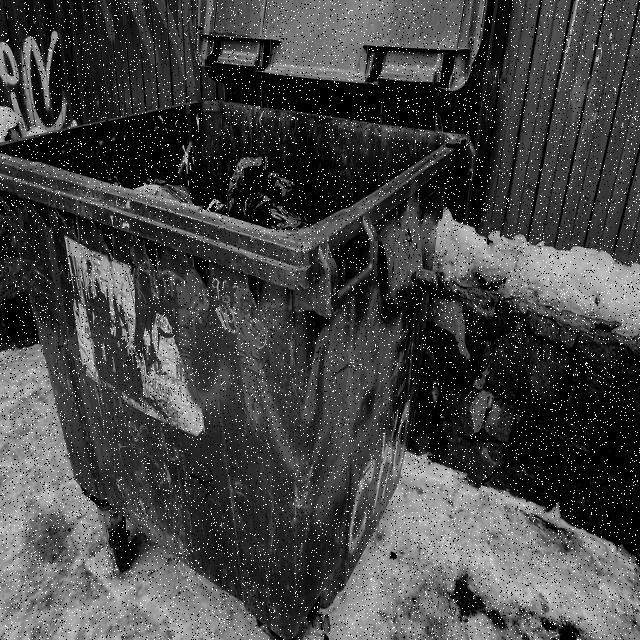Trashcan: (0, 72, 523, 640)
